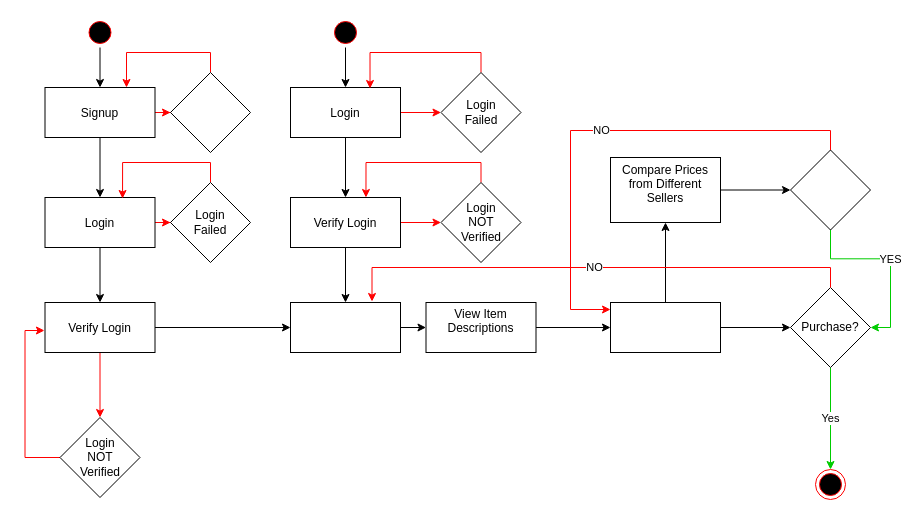
Image size: 918x517. Some labels were removed from this diagram. The centre of each missing label's shape, as x and y in pixels:
Is Price Better?: the point at 830,189
Look for item: the point at 345,327
Signup Failed: the point at 210,112
Verify Prices: the point at 665,327
